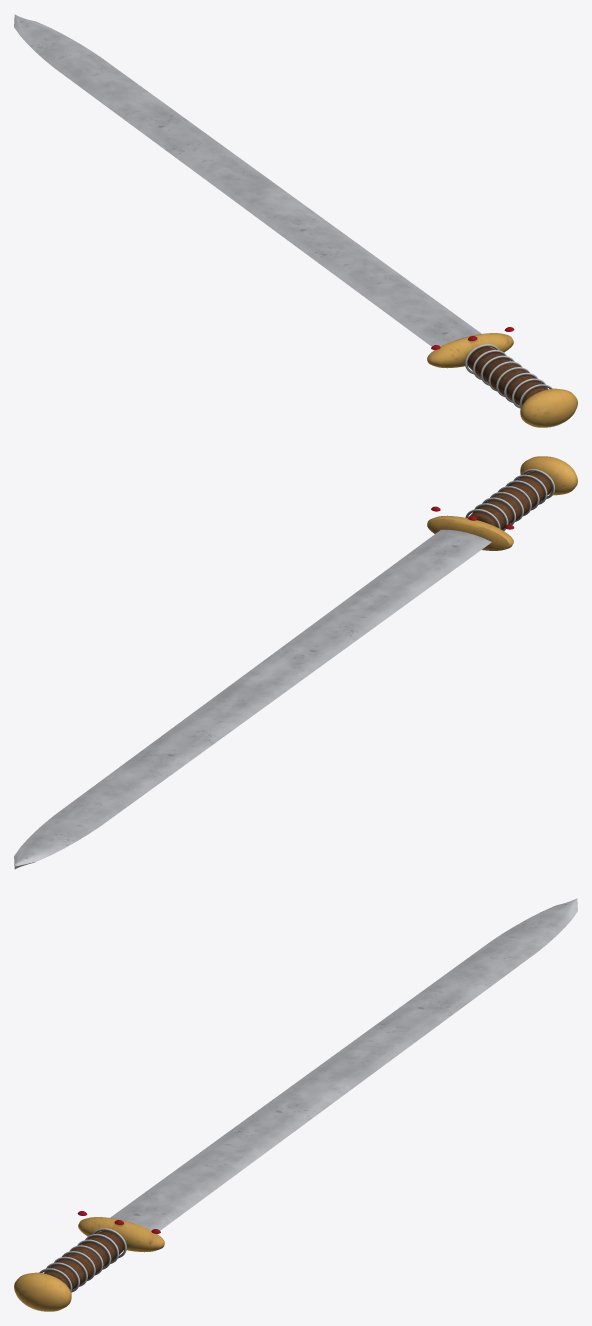
File: parade_spatha.glb
3 renders of one model, top to bottom at view 1: azimuth 30°, elevation 25°; view 2: azimuth 150°, elevation 25°; view 3: azimuth 330°, elevation 25°, orthographic.
Parts seen in each view (by area): view 1: parade_spatha; view 2: parade_spatha; view 3: parade_spatha.
Part boxes in pixels (left/top/right/bottom): parade_spatha: left=14, top=14, right=577, bottom=427; parade_spatha: left=14, top=456, right=577, bottom=869; parade_spatha: left=14, top=898, right=577, bottom=1311.
Size of the model in its own units: 0.0866 by 0.0332 by 0.956.
Materials: 1 (1 with a texture image).
